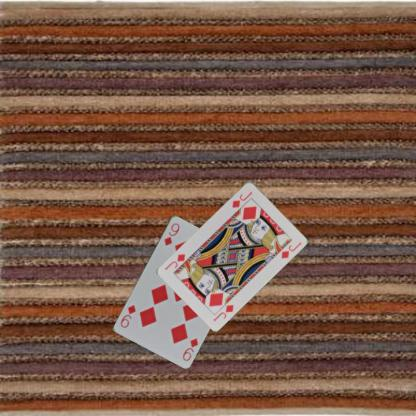9d: (161, 220, 181, 247), (180, 335, 199, 362)
Jd: (229, 189, 254, 209), (210, 302, 235, 322)
